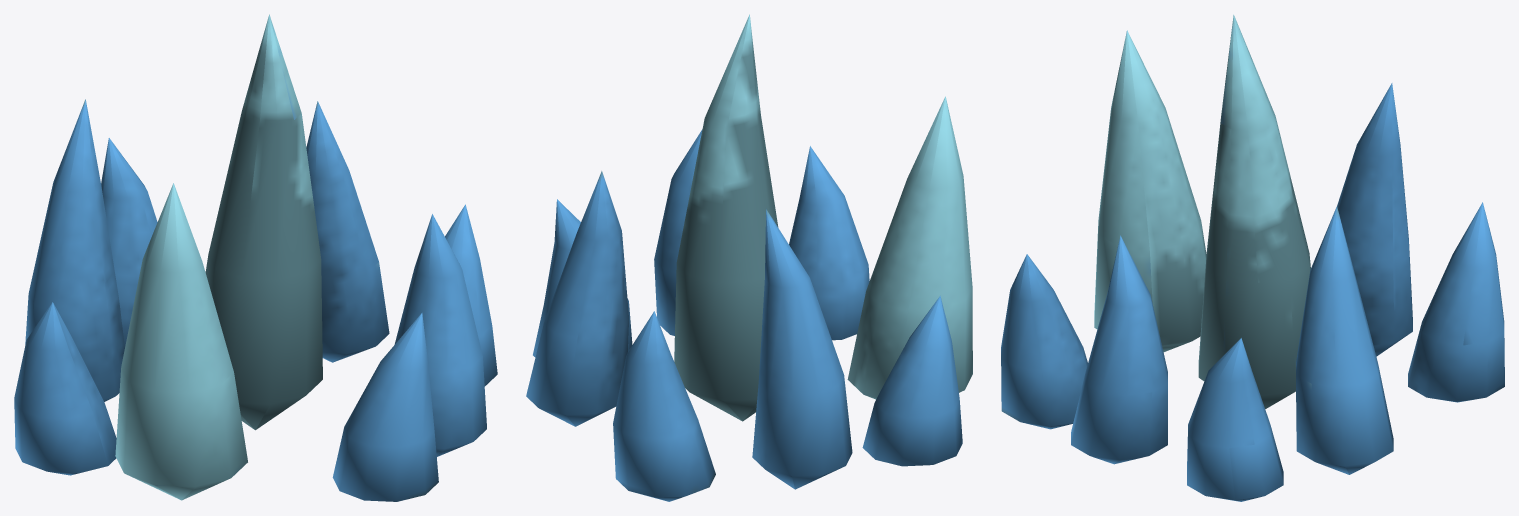
File: soul_flame.obj
The picture shows the model from 3 angles, left to right: view 1: azimuth 30°, elevation 25°; view 2: azimuth 150°, elevation 25°; view 3: azimuth 270°, elevation 25°; orthographic projection. The views are drawn at different scales.
Visible parts, largest first — view 1: fire; view 2: fire; view 3: fire.
Boxes of the visible parts, bbox=[...] form: fire: bbox=[14, 14, 497, 501]; fire: bbox=[526, 14, 972, 501]; fire: bbox=[1001, 14, 1504, 501].
Bounding box in the file's own units: 0.7878 × 0.7 × 0.7921.
